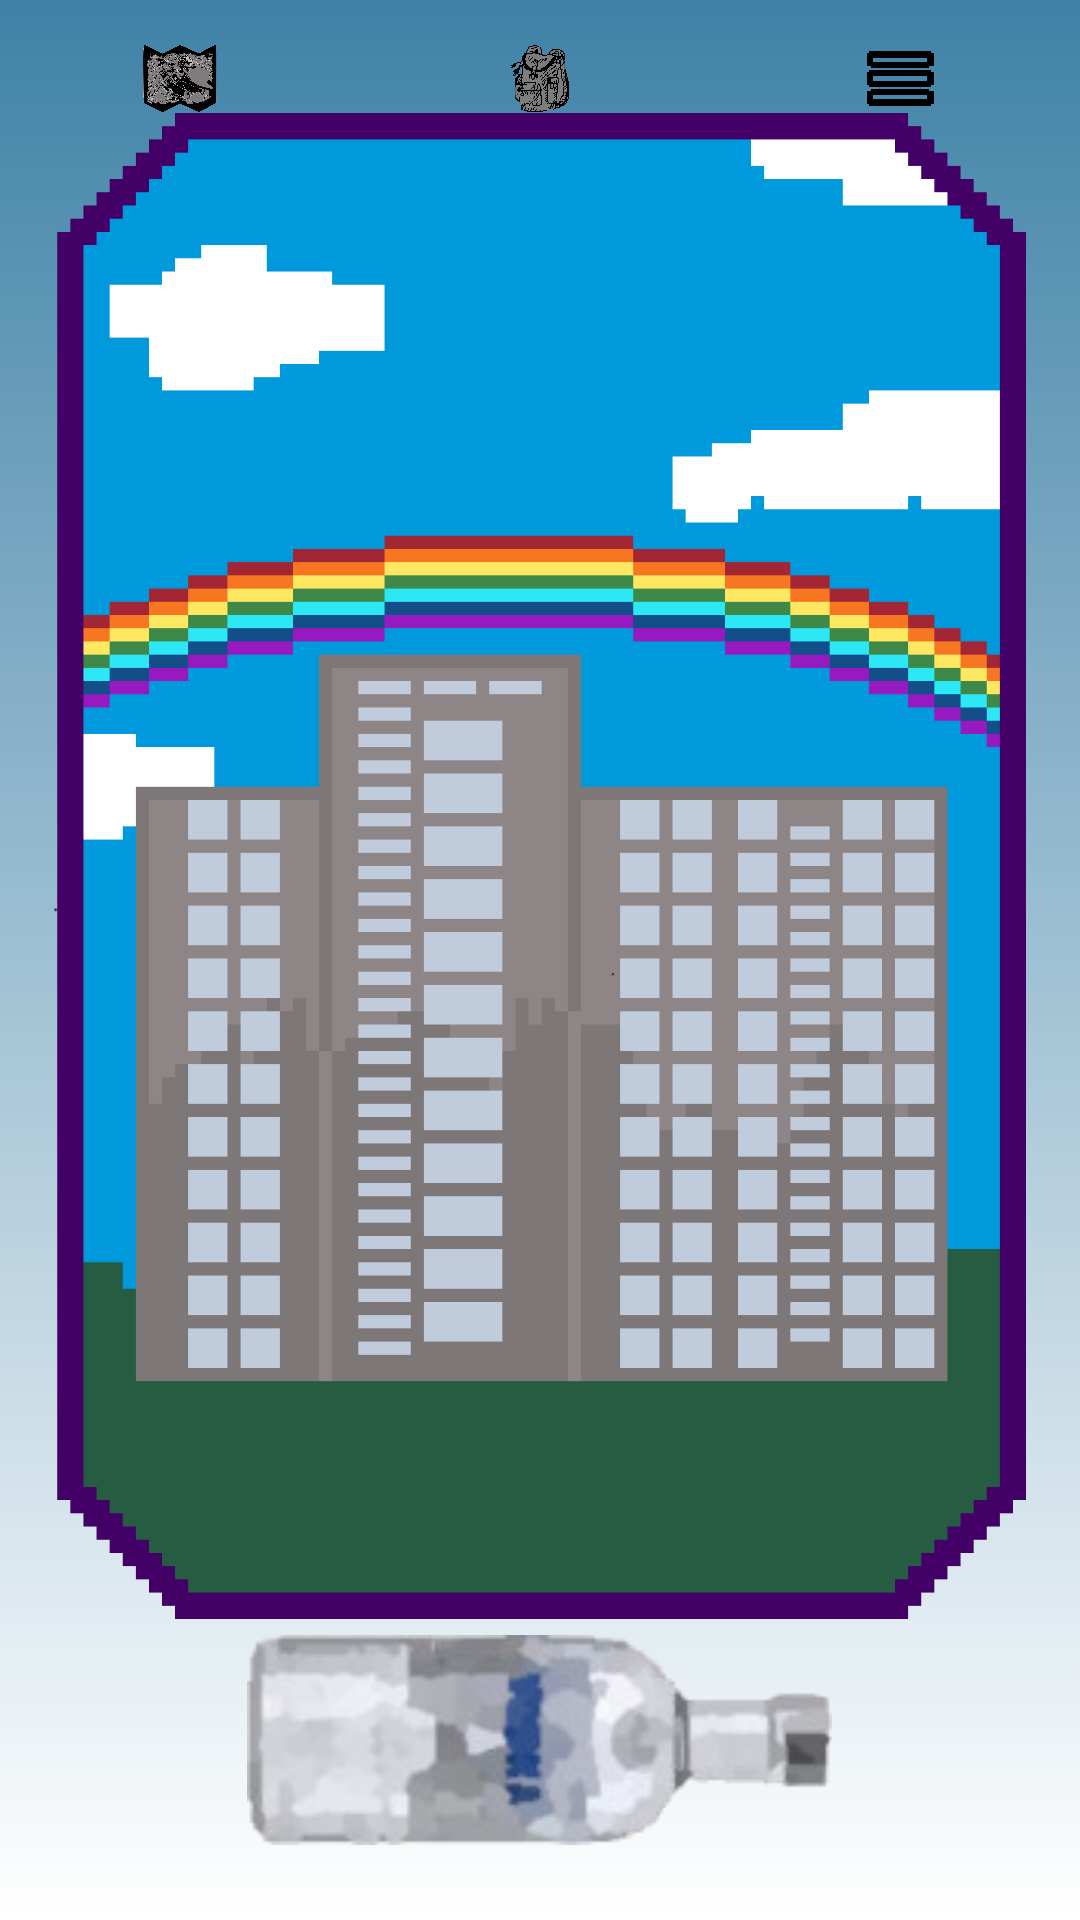

Icon bounding boxes for this 1080 × 1920 phone screenshot, format (x1, y1, x2, y2):
Equipment: (511, 45, 569, 112)
Ingame menu: (867, 51, 934, 106)
Map: (143, 45, 216, 112)
